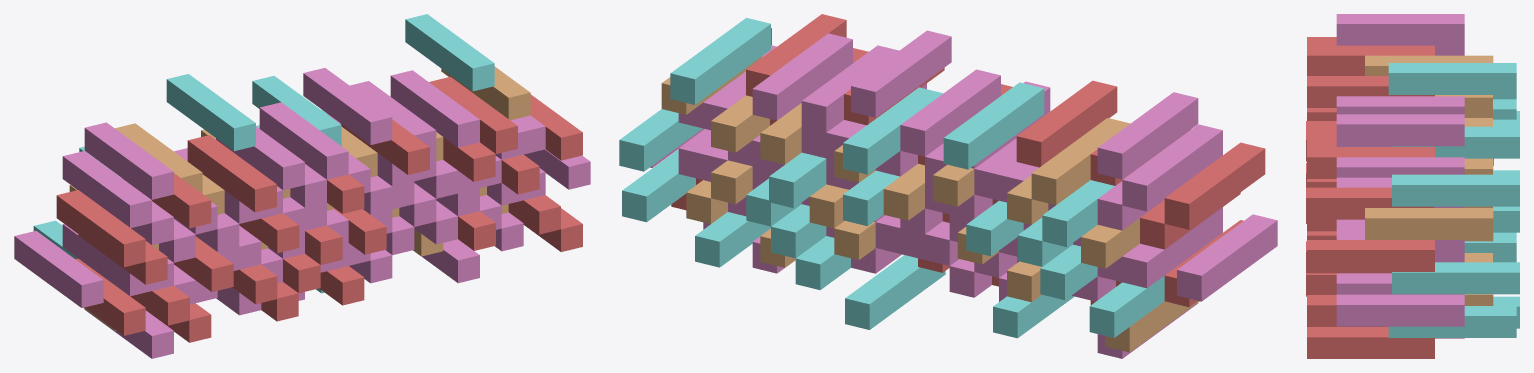
The model's file is textbackground.fbx.
3 renders of one model, left to right at view 1: azimuth 30°, elevation 25°; view 2: azimuth 150°, elevation 25°; view 3: azimuth 270°, elevation 25°, orthographic. The views are drawn at different scales.
Parts seen in each view (by area): view 1: pCube112, pCube105, pCube63, pCube107, pCube123, pCube117, pCube111, pCube85, pCube121, pCube115, pCube122, pCube113 (+59 smaller); view 2: pCube107, pCube112, pCube105, pCube63, pCube117, pCube123, pCube85, pCube121, pCube111, pCube115, pCube12, pCube109 (+56 smaller); view 3: pCube41, pCube117, pCube123, pCube107, pCube112, pCube124, pCube104, pCube82, pCube21, pCube62, pCube122, pCube108 (+32 smaller).
Boxes of the visible parts, left/top/right/bottom form: pCube112: left=166, top=74, right=255, bottom=151; pCube105: left=56, top=190, right=145, bottom=267; pCube63: left=14, top=231, right=103, bottom=307; pCube107: left=84, top=122, right=173, bottom=199; pCube123: left=405, top=14, right=494, bottom=91; pCube117: left=303, top=68, right=392, bottom=144; pCube111: left=187, top=135, right=276, bottom=212; pCube85: left=62, top=151, right=151, bottom=227; pCube121: left=390, top=70, right=479, bottom=147; pCube115: left=259, top=102, right=348, bottom=179; pCube122: left=429, top=76, right=517, bottom=153; pCube113: left=216, top=126, right=304, bottom=190; pCube107: left=1097, top=92, right=1198, bottom=179; pCube112: left=943, top=82, right=1044, bottom=169; pCube105: left=1164, top=142, right=1265, bottom=229; pCube63: left=1177, top=214, right=1277, bottom=301; pCube117: left=851, top=30, right=951, bottom=117; pCube123: left=670, top=18, right=770, bottom=104; pCube85: left=1122, top=124, right=1222, bottom=211; pCube121: left=752, top=33, right=852, bottom=120; pCube111: left=1016, top=80, right=1117, bottom=167; pCube115: left=900, top=69, right=1000, bottom=156; pCube12: left=845, top=255, right=945, bottom=329; pCube109: left=1031, top=118, right=1130, bottom=204; pCube41: left=1336, top=294, right=1464, bottom=326; pCube117: left=1336, top=114, right=1464, bottom=146; pCube123: left=1392, top=174, right=1519, bottom=206; pCube107: left=1336, top=14, right=1464, bottom=45; pCube112: left=1388, top=63, right=1516, bottom=94; pCube124: left=1365, top=208, right=1493, bottom=239; pCube104: left=1307, top=240, right=1434, bottom=271; pCube82: left=1392, top=262, right=1519, bottom=294; pCube21: left=1307, top=327, right=1434, bottom=358; pCube62: left=1388, top=306, right=1516, bottom=337; pCube122: left=1306, top=187, right=1433, bottom=219; pCube108: left=1307, top=45, right=1434, bottom=75.
Bounding box in the file's own units: 6.98 × 2.44 × 2.67.
